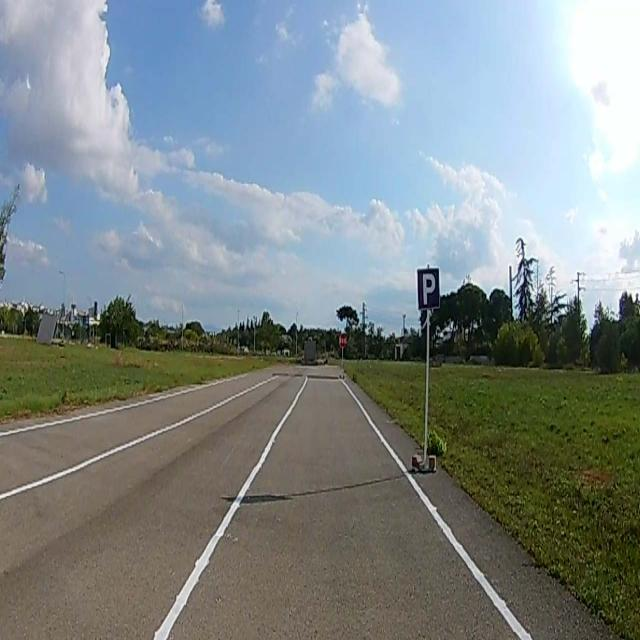park: (418, 271, 440, 306)
